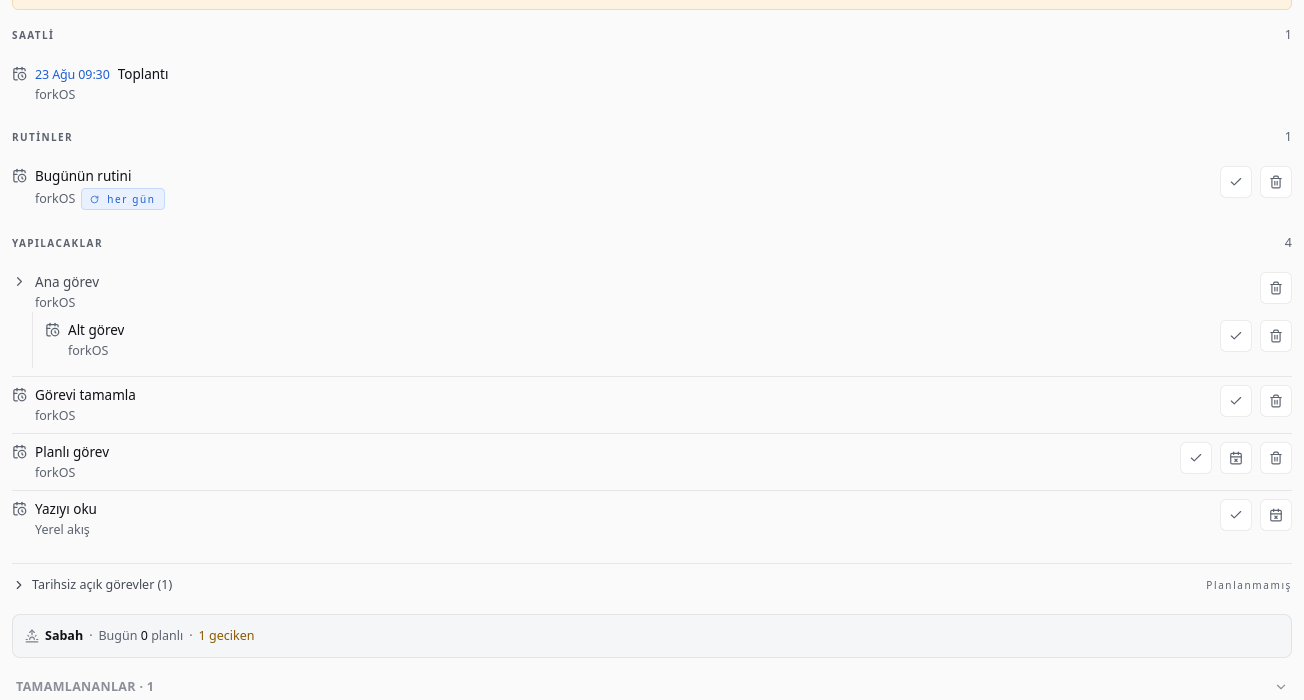
Test case: unified Today agenda › keeps completed rows collapsed until asked
(page scrolled)
Expected: the text "Biten görev" is not shown
Step 1. Click the button "Tamamlananlar · 1" → (81, 686), box [12, 674, 1292, 699]
(page scrolled)
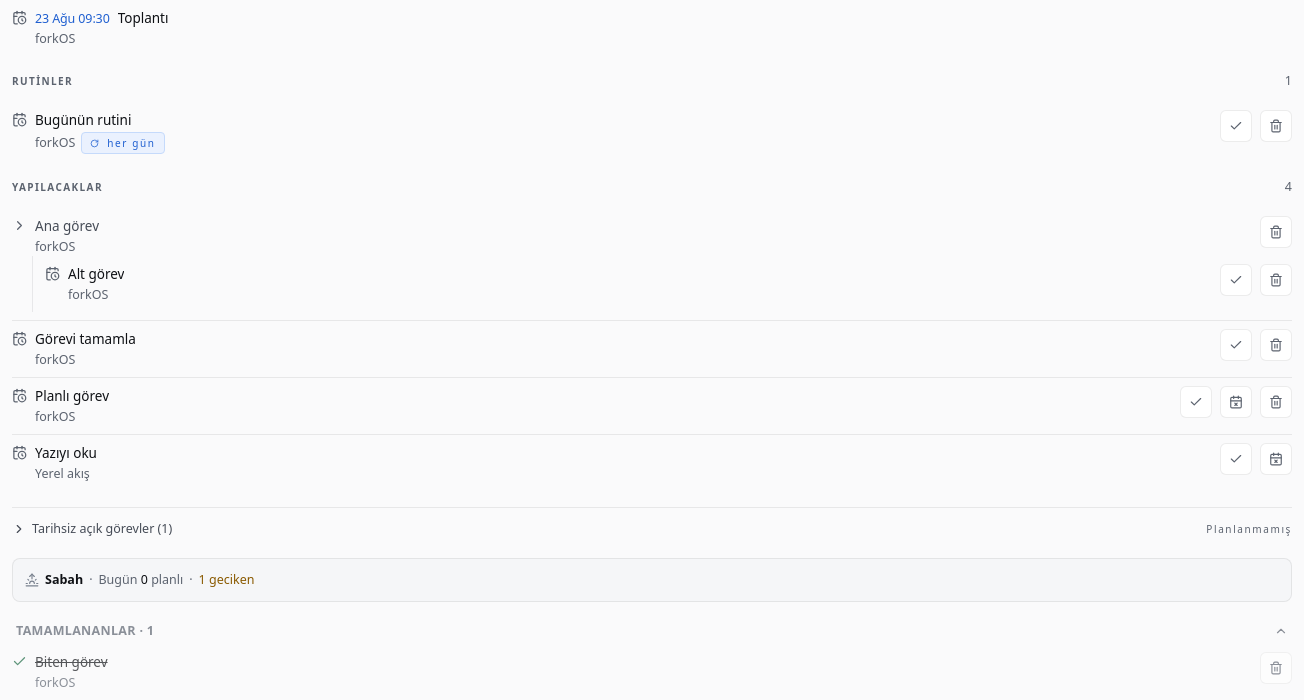
Now the button "Tamamlananlar · 1" is expanded, box [12, 618, 1292, 644]
Now the link "Biten görev" is shown, box [35, 652, 108, 672]
